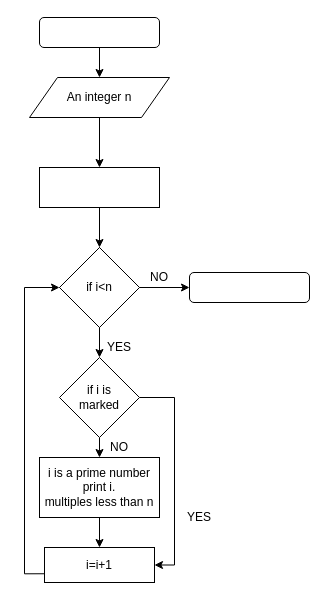
Some shapes in this 327 by 600 pixel diagram are drawn without their labels. Each missing label, with the box of its shape:
Initialize i=2: (38, 166, 160, 208)
Start: (38, 16, 160, 48)
Stop: (188, 272, 310, 302)
